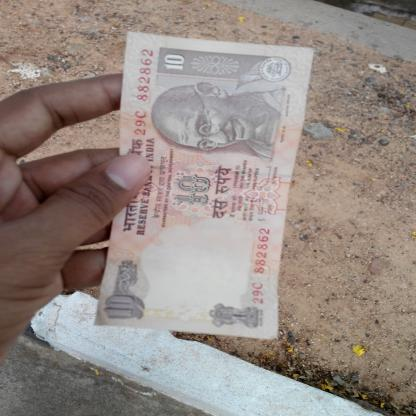Old10Front: (95, 31, 316, 340)
